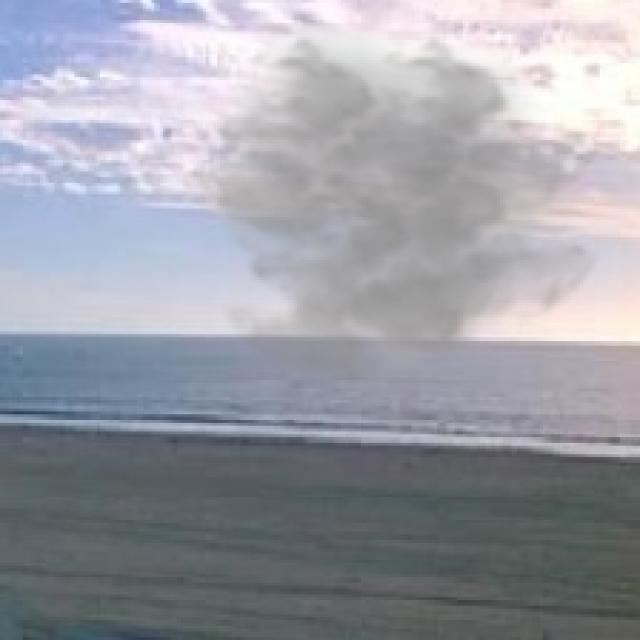Smoke: (183, 22, 603, 414)
